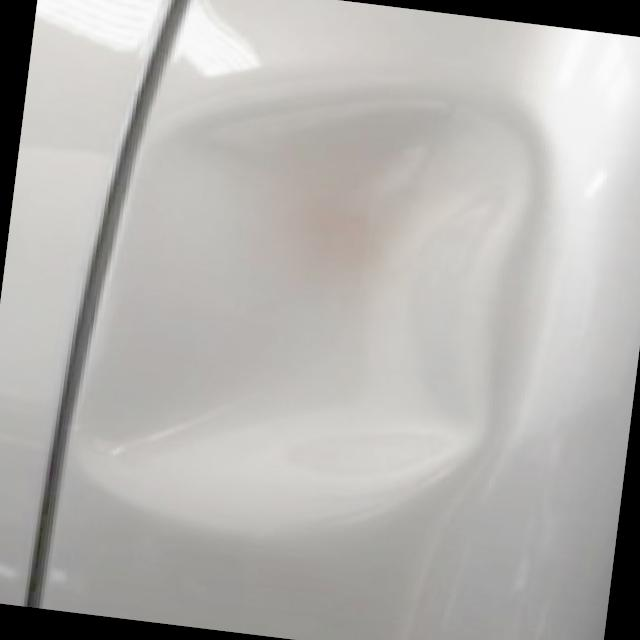dent: (72, 83, 563, 530), (546, 42, 635, 198)
